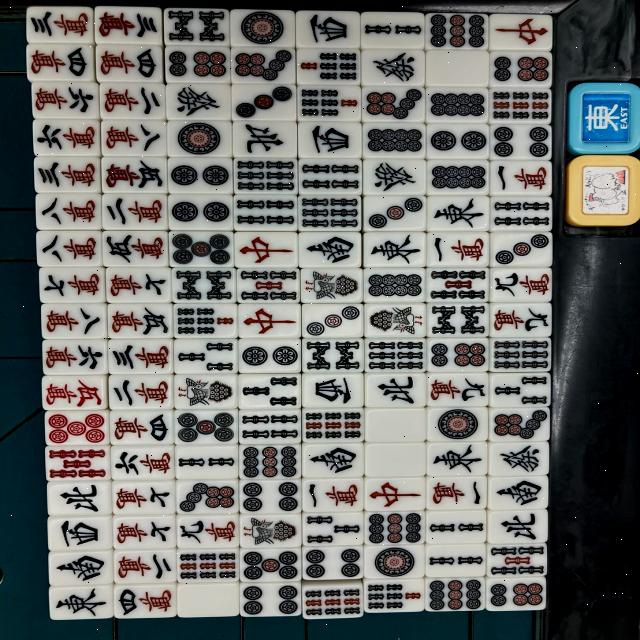bamboos_1: (299, 268, 366, 304), (362, 302, 426, 338), (174, 374, 238, 409), (239, 514, 302, 548)
bamboos_2: (174, 444, 240, 481), (362, 12, 425, 49), (425, 544, 488, 578), (424, 512, 487, 544)
bamboos_3: (173, 337, 238, 374), (300, 512, 363, 547), (239, 375, 302, 409), (489, 373, 551, 407)
bamboos_4: (235, 408, 305, 444), (298, 156, 362, 194), (232, 195, 298, 231), (488, 197, 552, 230)
bamboos_5: (297, 194, 364, 233), (235, 269, 301, 303), (424, 267, 488, 302), (48, 448, 112, 482), (486, 544, 546, 578)
bamboos_6: (233, 158, 298, 196), (488, 338, 553, 372), (365, 338, 428, 373)
bamboos_7: (294, 49, 360, 86), (297, 86, 361, 122), (172, 305, 239, 338), (361, 580, 426, 612)
bamboos_8: (161, 6, 230, 45), (171, 269, 237, 304), (427, 303, 490, 337), (302, 339, 364, 373)
bamboos_9: (486, 85, 552, 125), (302, 581, 366, 617), (300, 408, 364, 442), (178, 548, 239, 582)
characters_1: (488, 160, 553, 197), (426, 232, 488, 268), (425, 477, 486, 511), (303, 479, 365, 512)
characters_2: (102, 193, 168, 231), (100, 84, 167, 120), (113, 548, 176, 584)
characters_3: (35, 156, 102, 194), (94, 8, 164, 44), (27, 6, 95, 43), (110, 376, 175, 410)
characters_4: (27, 44, 97, 82), (95, 46, 164, 84), (109, 410, 175, 446), (108, 338, 173, 374), (115, 584, 178, 616)
characters_5: (100, 156, 168, 194), (103, 230, 170, 268), (105, 304, 172, 339), (44, 378, 109, 411)
characters_6: (32, 82, 100, 119), (33, 120, 100, 156), (110, 445, 175, 481), (43, 342, 108, 376)
characters_7: (38, 268, 106, 304), (112, 481, 176, 516), (106, 268, 171, 302), (113, 516, 175, 548)
characters_8: (42, 303, 108, 340), (38, 230, 102, 268), (38, 194, 103, 230), (101, 121, 165, 156)
characters_9: (490, 302, 552, 338), (176, 514, 239, 549), (488, 268, 553, 300), (429, 373, 489, 407)
circles_1: (167, 120, 232, 158), (230, 9, 296, 46), (426, 407, 489, 442), (364, 545, 424, 578)
circles_2: (167, 158, 233, 195), (168, 194, 233, 231), (425, 125, 488, 159), (236, 341, 302, 372)
circles_3: (231, 82, 298, 122), (361, 195, 427, 232), (489, 231, 553, 267), (302, 304, 364, 339)
circles_4: (491, 124, 554, 160), (242, 480, 302, 514), (240, 584, 303, 616), (302, 548, 362, 580)
circles_5: (169, 230, 235, 268), (238, 546, 301, 582), (47, 411, 110, 446), (174, 411, 238, 444)
circles_6: (162, 44, 231, 86), (427, 338, 488, 373), (492, 50, 552, 85), (486, 578, 546, 609)
circles_7: (230, 46, 295, 84), (362, 86, 426, 124), (489, 409, 551, 441), (176, 481, 239, 512)
circles_8: (424, 87, 489, 123), (426, 160, 490, 196), (362, 123, 425, 159), (363, 268, 425, 302)
circles_9: (425, 11, 489, 51), (237, 443, 302, 480), (425, 576, 488, 612), (364, 511, 426, 544)
east: (361, 233, 425, 268), (426, 198, 489, 232), (427, 442, 486, 476), (50, 586, 115, 616)
green: (359, 158, 426, 195), (166, 85, 232, 121), (361, 50, 426, 86), (486, 443, 549, 475)
north: (233, 121, 300, 157), (364, 373, 428, 407), (49, 483, 113, 516), (488, 512, 549, 542)
red: (235, 231, 300, 268), (238, 305, 301, 340), (362, 476, 424, 511), (490, 14, 553, 48)
south: (298, 231, 362, 269), (301, 442, 363, 479), (49, 551, 113, 584), (489, 475, 548, 510)
west: (48, 516, 113, 551), (299, 121, 362, 157), (296, 12, 359, 48), (302, 374, 365, 408)
white: (424, 52, 489, 86), (364, 408, 427, 442), (179, 582, 242, 616), (365, 441, 427, 475)
